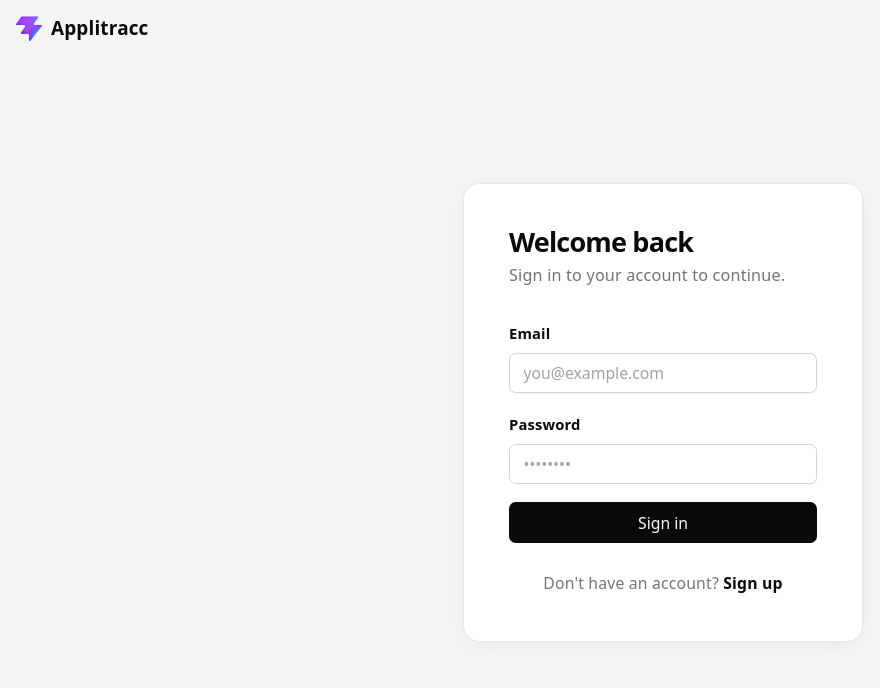
Test case: LoginPage › shows error message on failed login
Type "bad@example.com" into the field labelled "Email". click: (663, 373)
box: [509,352,817,393]
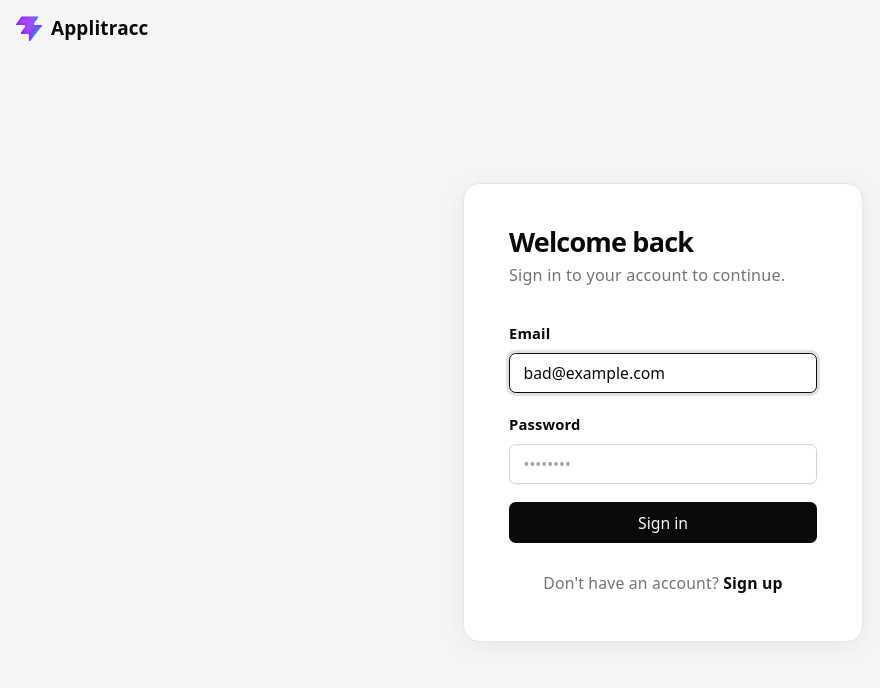
Type "wrongpw" into the password field labelled "Password". click: (663, 464)
box: [509,444,817,484]
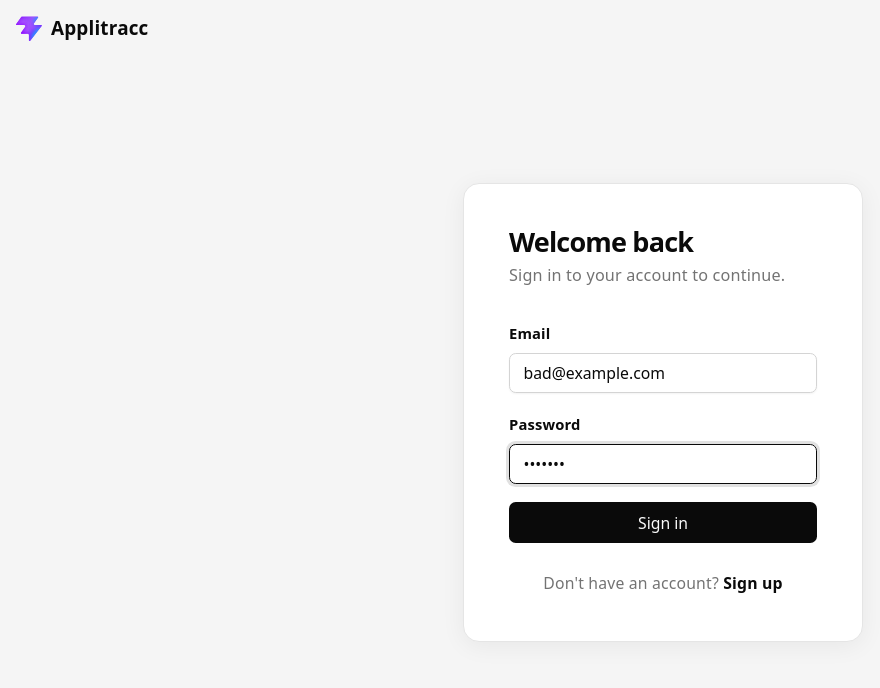
Click the button "Sign in". click: (663, 523)
box: [509,502,817,543]
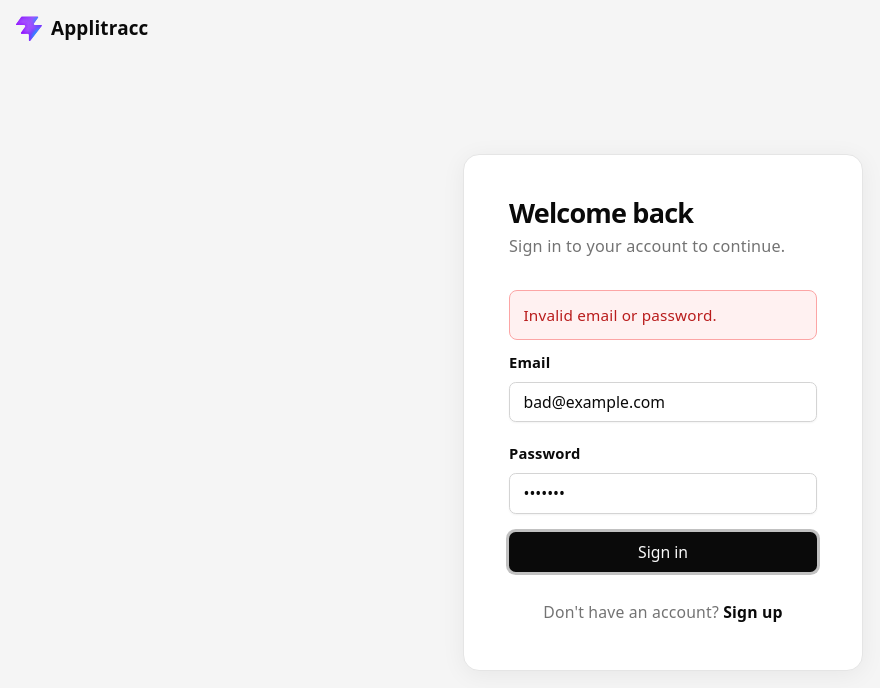
Expected: the text "Invalid email or password." is shown, [509,290,817,340]
